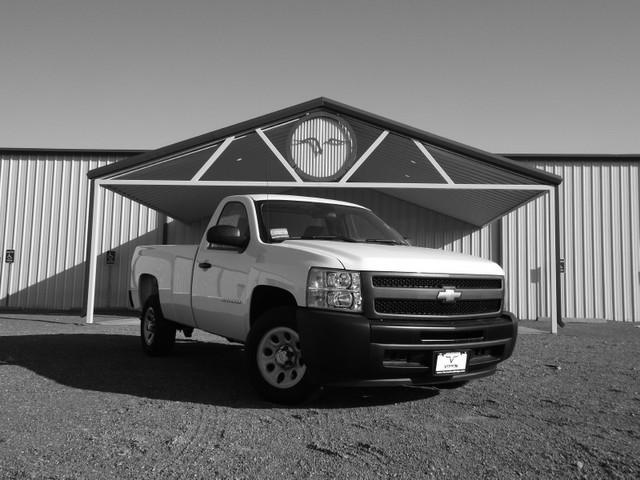car: (128, 194, 519, 407)
